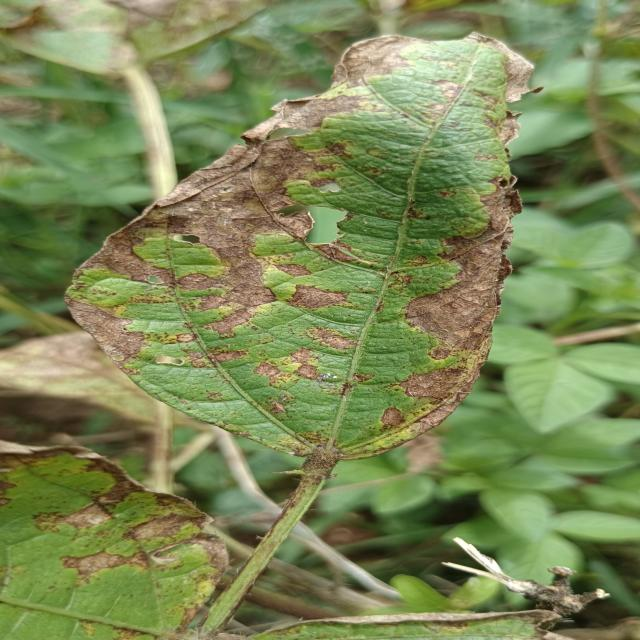Black gram_leaf spot: (60, 26, 557, 463), (1, 444, 244, 640)
